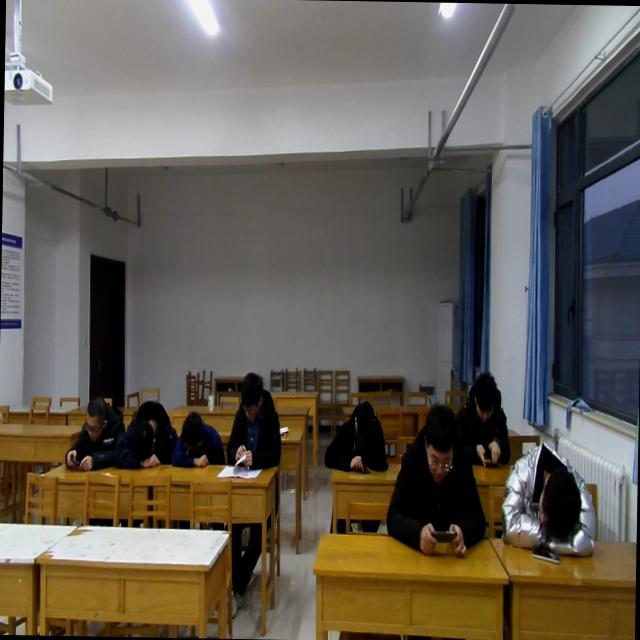bow: (498, 440, 604, 560), (61, 386, 127, 474), (112, 394, 180, 474), (322, 397, 388, 475), (170, 407, 227, 471)
down: (419, 400, 458, 484), (468, 369, 498, 426), (238, 369, 268, 421), (82, 390, 108, 442), (350, 394, 376, 442)
sit: (384, 401, 491, 559), (449, 367, 513, 473), (222, 371, 284, 471)
